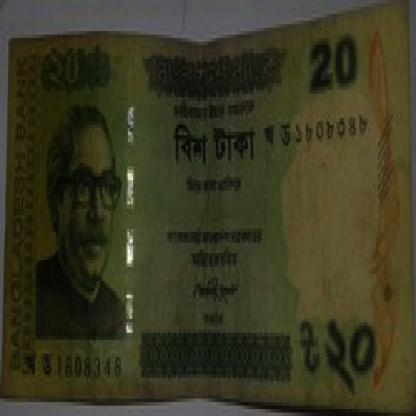Twenty: (296, 315, 381, 392), (168, 114, 265, 174), (42, 42, 118, 108), (296, 35, 366, 100)
